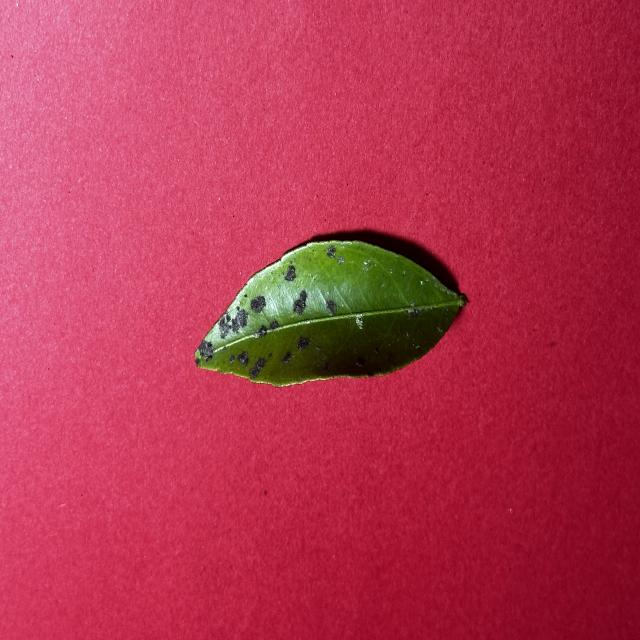sooty_mold: (194, 241, 466, 386)
